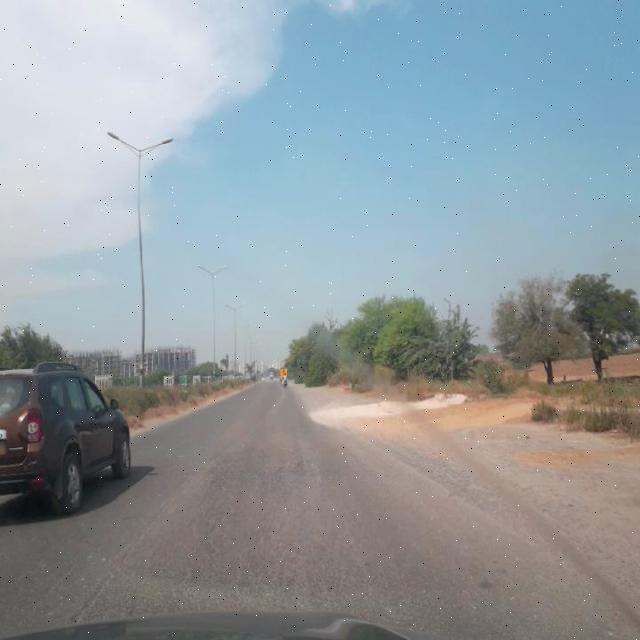D00: (75, 462, 191, 617)
D20: (144, 470, 356, 615)
D40: (272, 442, 338, 484)
